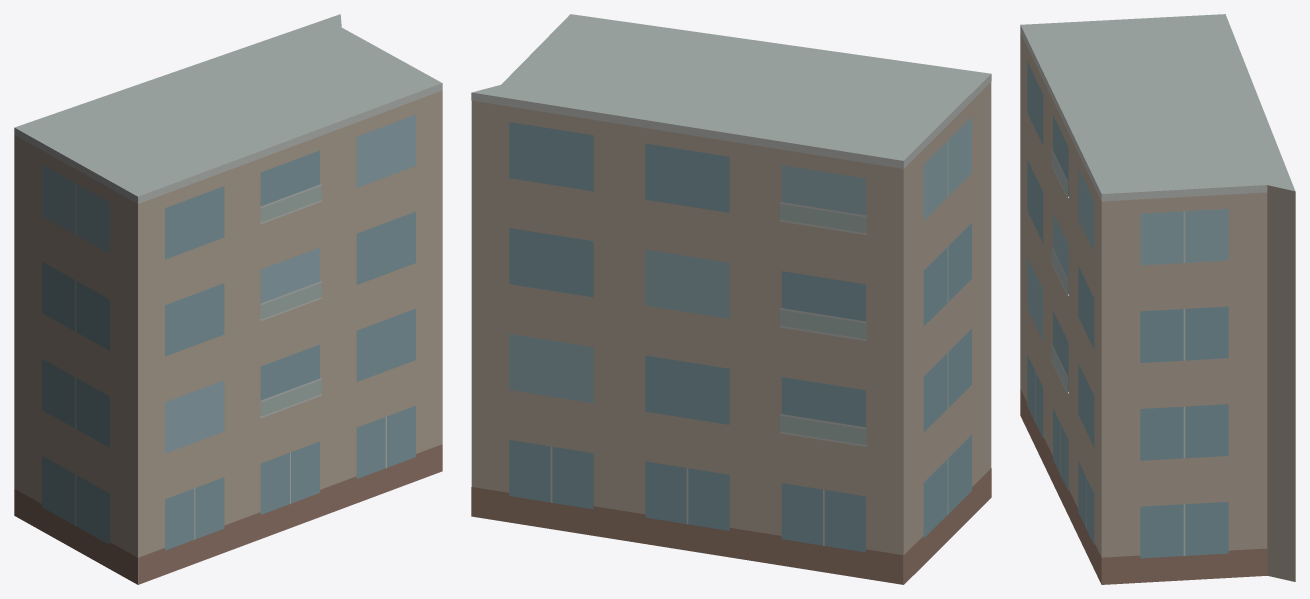
File: survey-upis-32912019.glb
3 renders of one model, left to right at view 1: azimuth 30°, elevation 25°; view 2: azimuth 150°, elevation 25°; view 3: azimuth 270°, elevation 25°, orthographic. The views are drawn at different scales.
Parts seen in each view (by area): view 1: survey-upis-32912019.tmp; view 2: survey-upis-32912019.tmp; view 3: survey-upis-32912019.tmp.
Part boxes in pixels (box(x1,y1,x2,y2)): survey-upis-32912019.tmp: box(14, 14, 442, 584); survey-upis-32912019.tmp: box(471, 14, 991, 584); survey-upis-32912019.tmp: box(1020, 14, 1295, 584).
Size of the model in its own units: 12.77 by 12.9 by 8.24.
